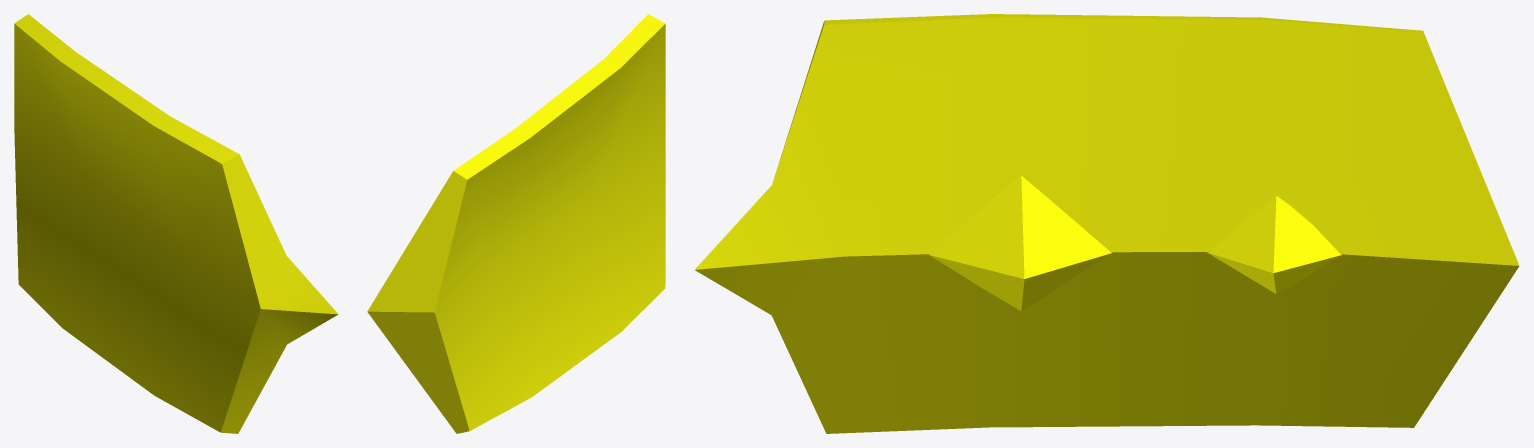
File: ORC_Shield_D.FBX.glb
3 renders of one model, left to right at view 1: azimuth 30°, elevation 25°; view 2: azimuth 150°, elevation 25°; view 3: azimuth 270°, elevation 25°, orthographic. The views are drawn at different scales.
Parts seen in each view (by area): view 1: ORC_Shield_D; view 2: ORC_Shield_D; view 3: ORC_Shield_D.
Part boxes in pixels (x1,y1,x2,y2): ORC_Shield_D: (14, 14, 338, 433); ORC_Shield_D: (367, 14, 665, 433); ORC_Shield_D: (695, 14, 1519, 433).
Size of the model in its own units: 7781 by 21829 by 39662.
